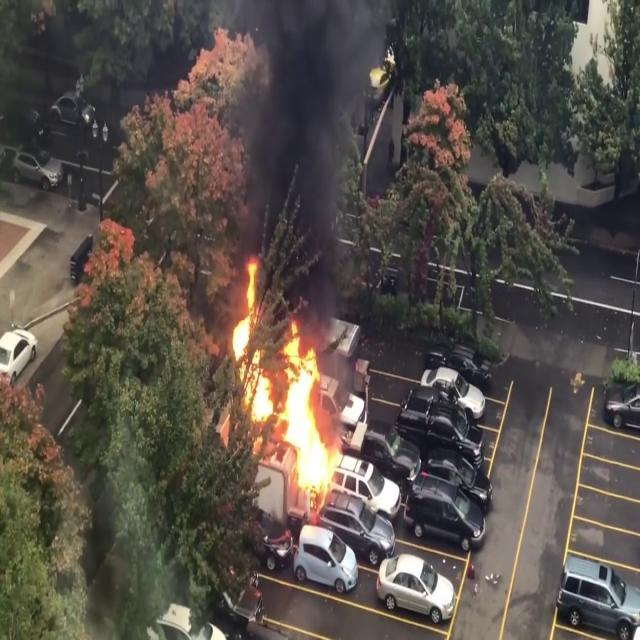Fire: (224, 258, 352, 510)
Smoke: (220, 0, 374, 294)
